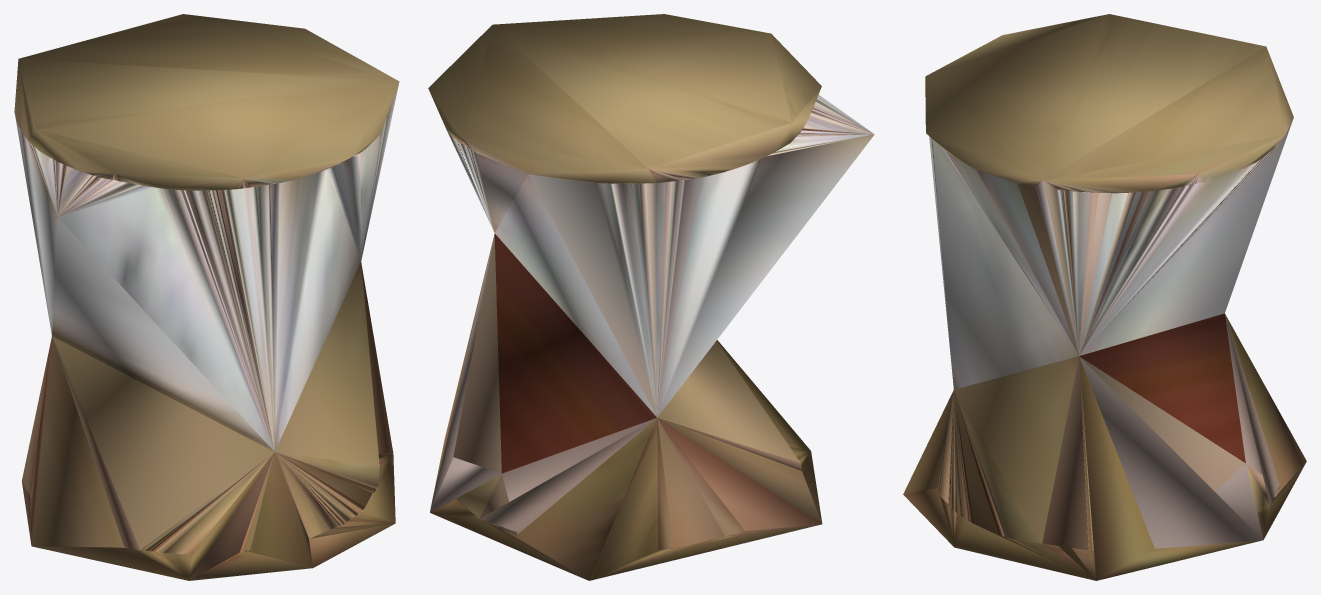
The model's file is coinPodium.glb.
3 renders of one model, left to right at view 1: azimuth 30°, elevation 25°; view 2: azimuth 150°, elevation 25°; view 3: azimuth 270°, elevation 25°, orthographic. The views are drawn at different scales.
Visible parts, largest first — view 1: Mesh_0; view 2: Mesh_0; view 3: Mesh_0.
Part boxes in pixels (<box>): Mesh_0: <box>14,14,399,580</box>; Mesh_0: <box>428,14,874,580</box>; Mesh_0: <box>903,14,1306,580</box>.
Bounding box in the file's own units: 1.03 × 1.05 × 0.9634.
1 material, 1 textured.
